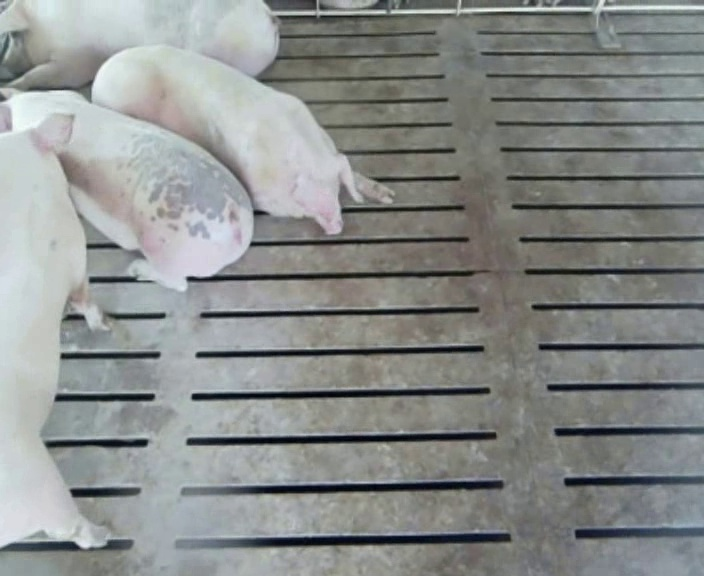pig: (92, 46, 391, 233), (0, 114, 110, 547)
